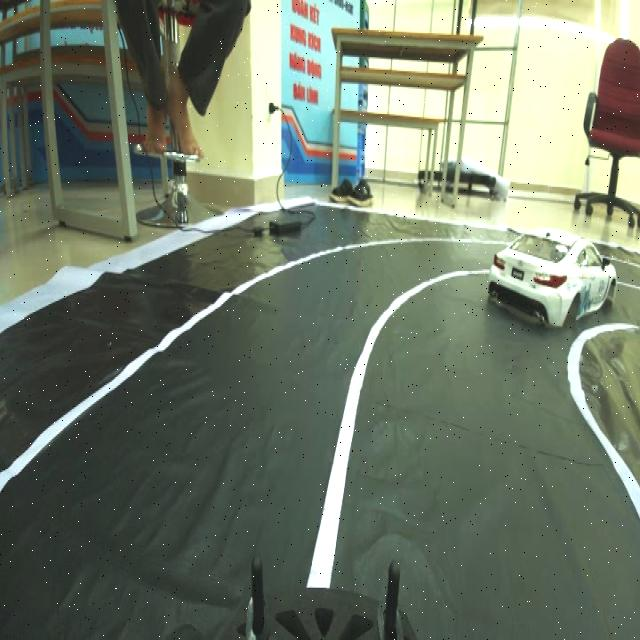car: (478, 209, 624, 341)
